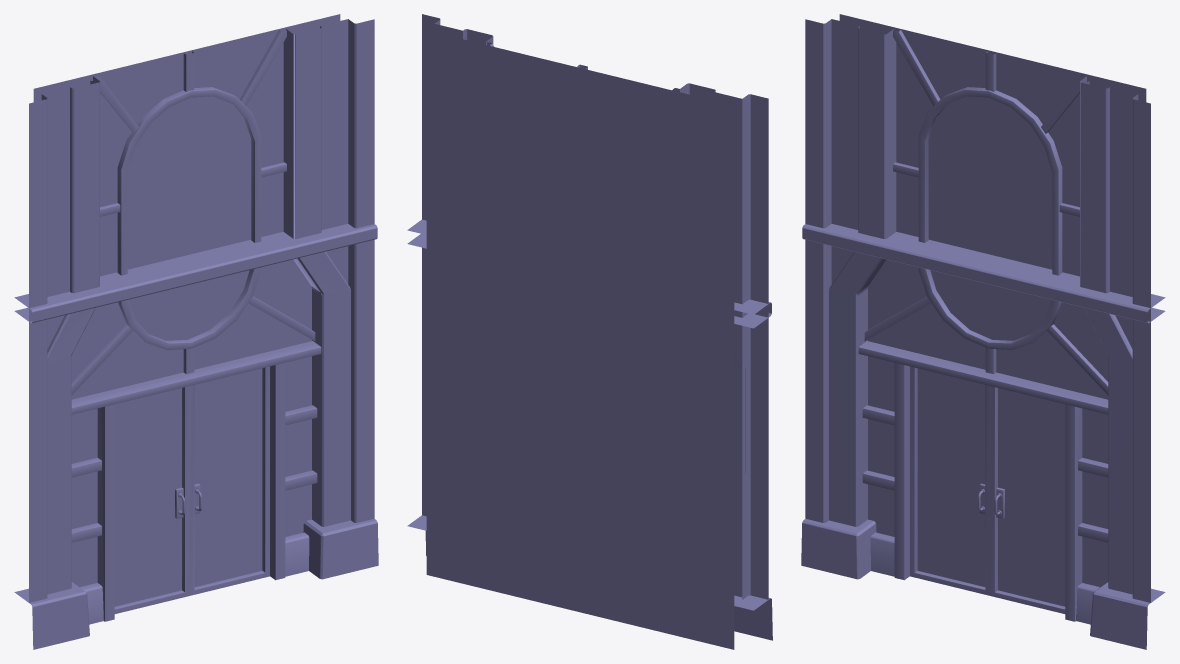
Rendered from M_A_door_01.fbx.
3 views of the same model, side by side, from view 1: azimuth 30°, elevation 25°; view 2: azimuth 150°, elevation 25°; view 3: azimuth 330°, elevation 25° (orthographic).
Parts seen in each view (by area): view 1: M_A_door_01; view 2: M_A_door_01; view 3: M_A_door_01.
Boxes of the visible parts, <box> form: M_A_door_01: <box>14,14,378,649</box>; M_A_door_01: <box>407,14,772,649</box>; M_A_door_01: <box>801,14,1165,649</box>.
Size of the model in its own units: 400 by 601 by 38.18.
